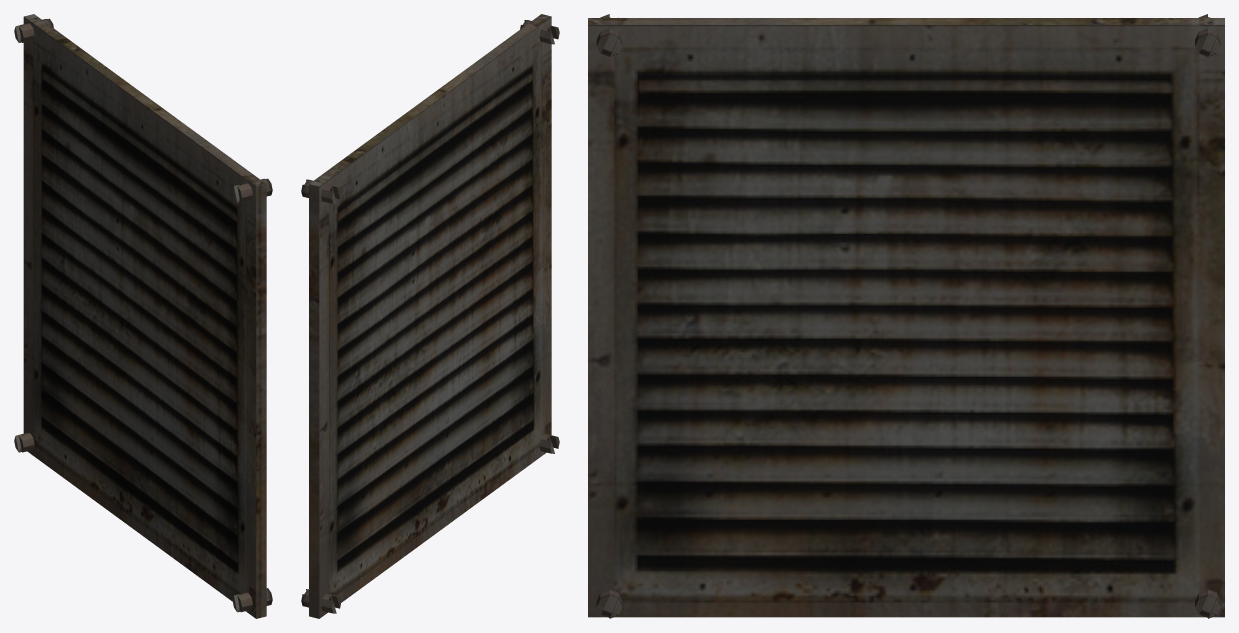
The model's file is door_vent_shaft01.dae.
3 renders of one model, left to right at view 1: azimuth 30°, elevation 25°; view 2: azimuth 150°, elevation 25°; view 3: azimuth 270°, elevation 25°, orthographic. The views are drawn at different scales.
Visible parts, largest first — view 1: polySurface1; view 2: polySurface1; view 3: polySurface1.
Part boxes in pixels (x1=…): polySurface1: x1=14, y1=14, x2=272, y2=618; polySurface1: x1=301, y1=14, x2=559, y2=618; polySurface1: x1=588, y1=14, x2=1224, y2=618.
Size of what is drawn, in the model's own units: 0.0935 by 1.25 by 1.22.
